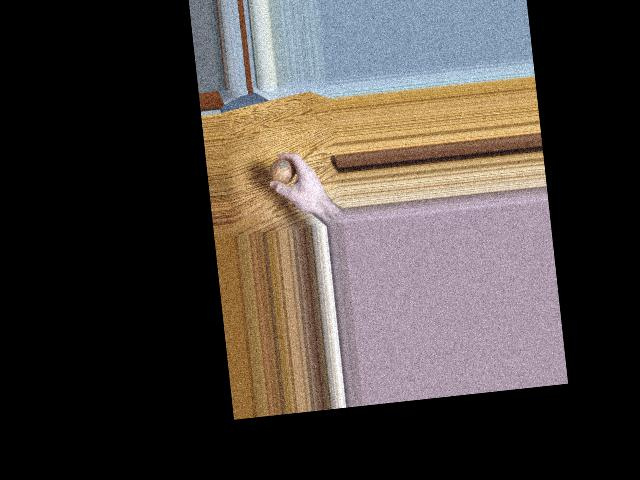onion: (269, 155, 300, 189)
